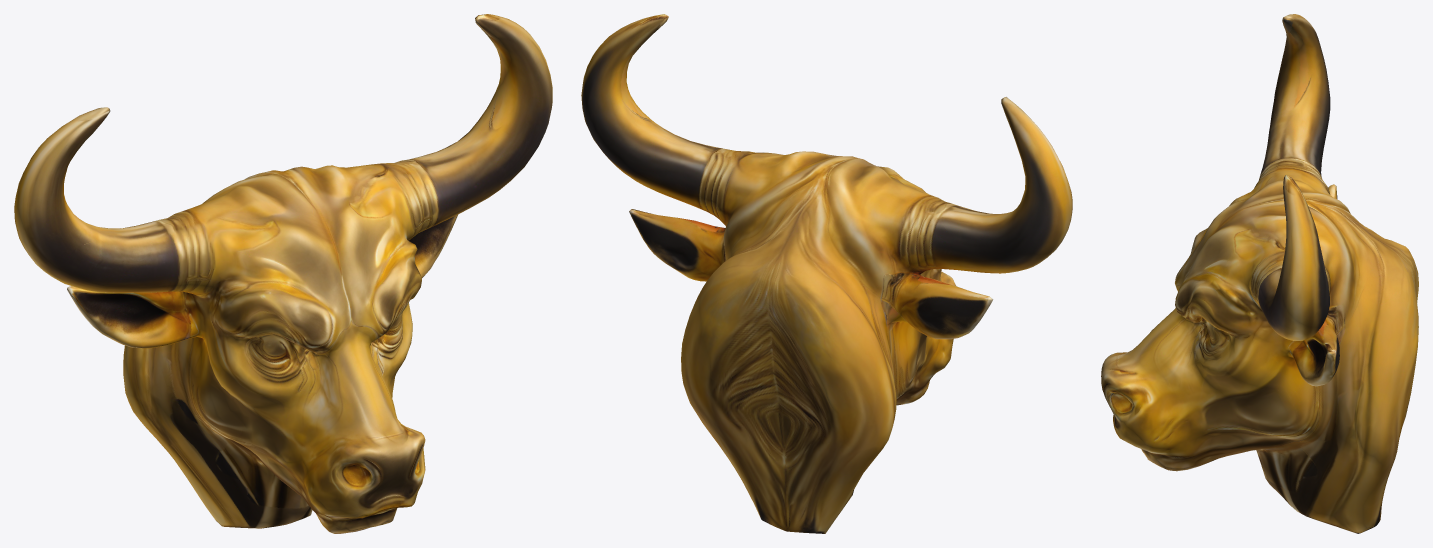
The model's file is Golden_Bull_Head_0518140349_texture.glb.
3 views of the same model, side by side, from view 1: azimuth 30°, elevation 25°; view 2: azimuth 150°, elevation 25°; view 3: azimuth 270°, elevation 25° (orthographic). The views are drawn at different scales.
Size of the model in its own units: 2 by 1.78 by 1.19.
1 material, 1 textured.
